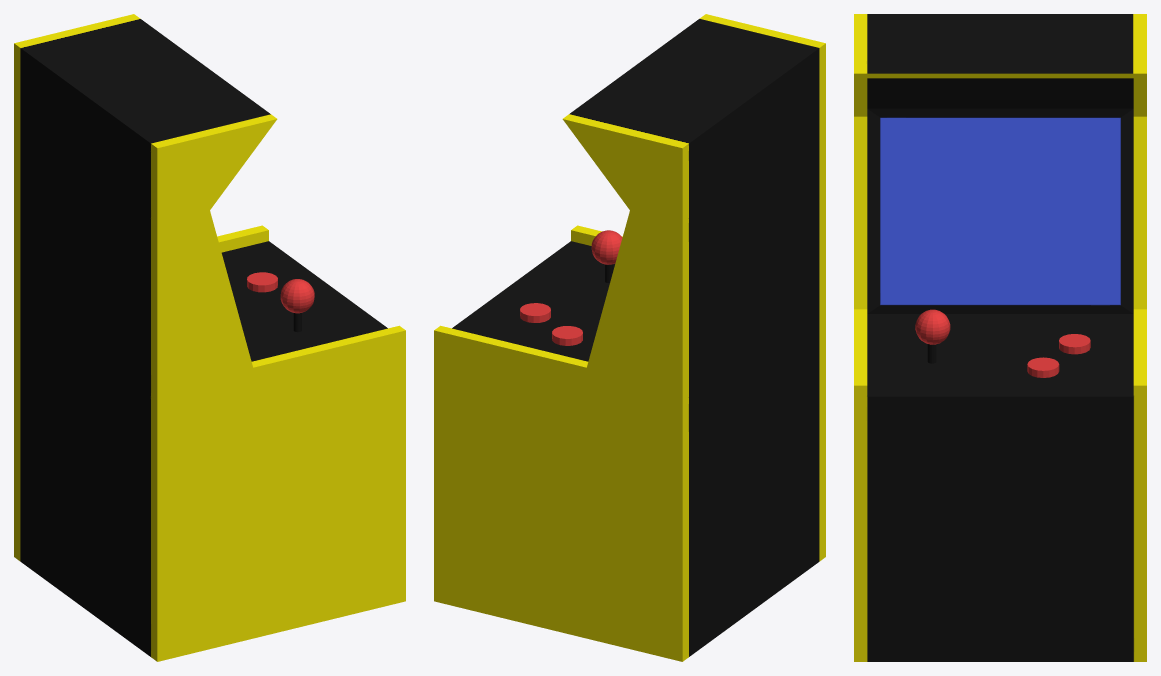
Rendered from gaming.glb.
3 renders of one model, left to right at view 1: azimuth 30°, elevation 25°; view 2: azimuth 150°, elevation 25°; view 3: azimuth 270°, elevation 25°, orthographic. The views are drawn at different scales.
Visible parts, largest first — view 1: Cube; view 2: Cube; view 3: Cube.
Boxes of the visible parts, box(x1,y1,x2,y2) form: Cube: box(14, 14, 405, 661); Cube: box(434, 14, 825, 661); Cube: box(854, 14, 1146, 661).
Size of the model in its own units: 2 by 3.95 by 2.
Materials: 1 (1 with a texture image).
